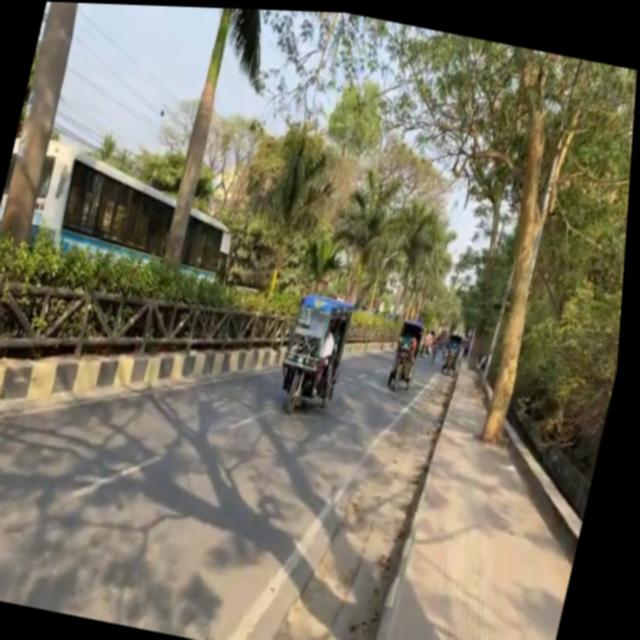Bench: (390, 313, 430, 390)
Construction-barrier: (450, 363, 617, 551), (372, 342, 469, 640)
Garbage: (276, 286, 360, 419)
Light-pole: (0, 0, 89, 249), (163, 5, 241, 268)
Pole: (0, 220, 308, 469)
Pothole: (374, 341, 620, 640)
